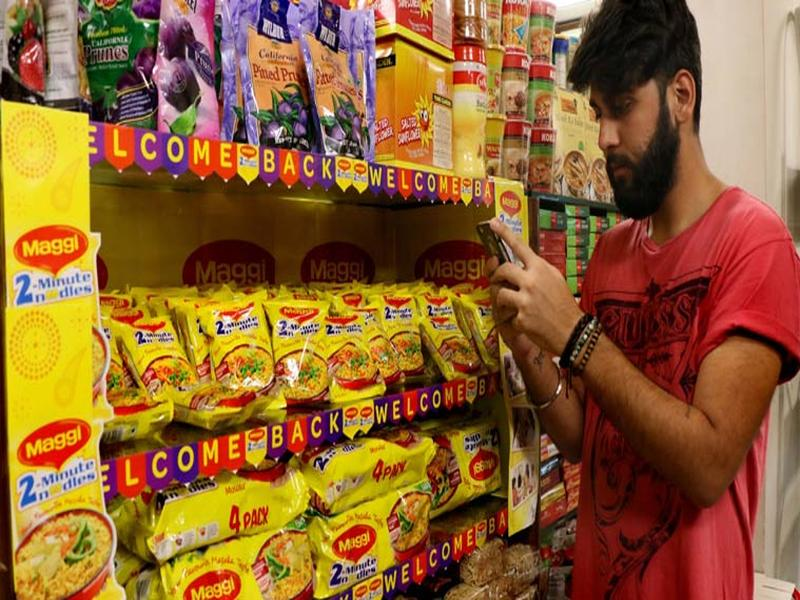maggi-family: (129, 456, 305, 545), (316, 504, 434, 590), (308, 428, 433, 495)
maggi-small: (202, 306, 293, 409), (271, 301, 335, 397), (116, 321, 196, 390), (418, 300, 485, 376), (318, 318, 382, 394), (371, 298, 428, 380)
